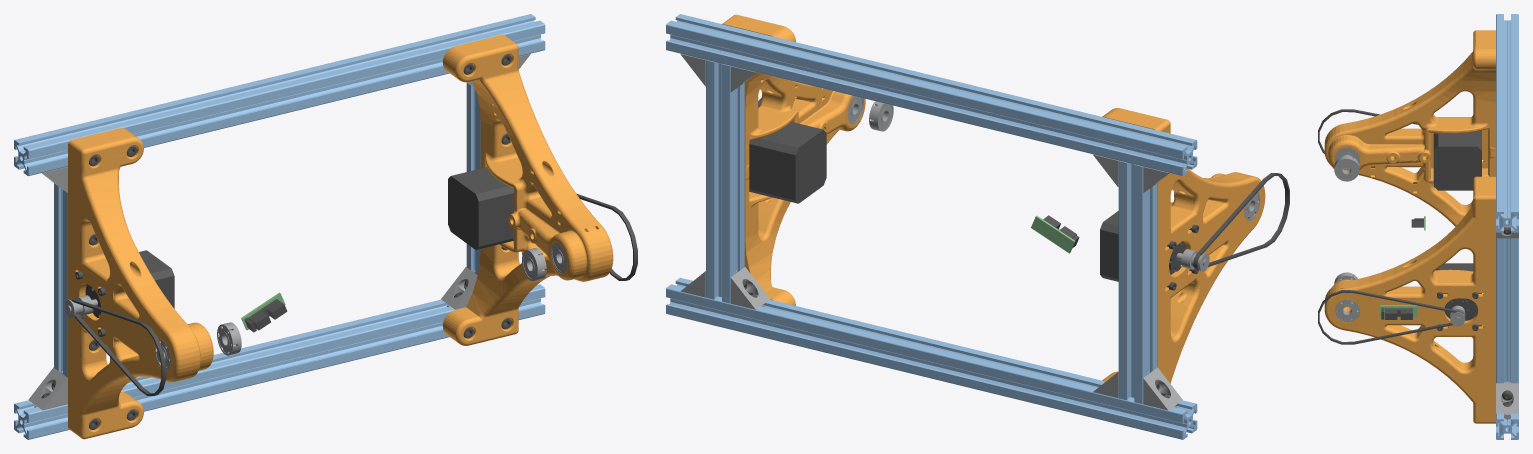
The model's file is trunnion.glb.
3 views of the same model, side by side, from view 1: azimuth 30°, elevation 25°; view 2: azimuth 150°, elevation 25°; view 3: azimuth 270°, elevation 25° (orthographic). The views are drawn at different scales.
Size of the model in its own units: 410 by 220 by 176.
